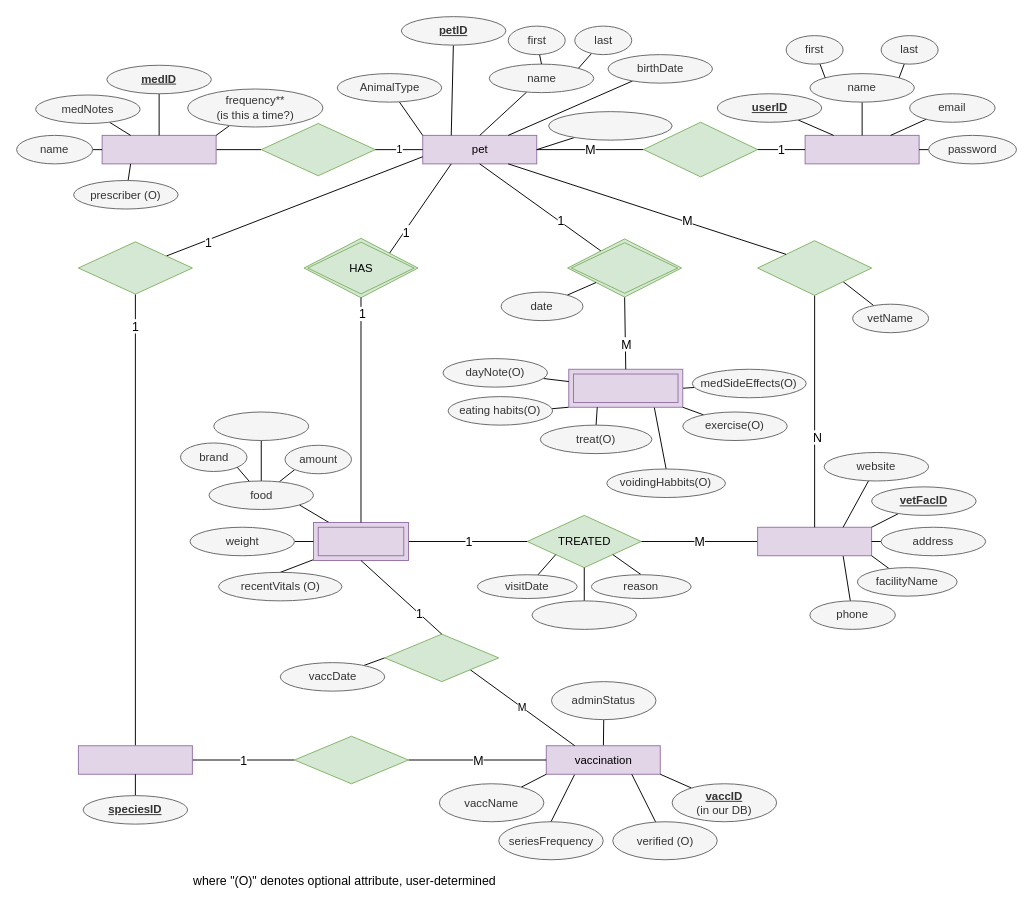
Image size: 1034x907. Some labels were removed from this diagram. The centre of each missing label's shape, as x and y in pixels:
"CARES_FOR" belongs at (x=700, y=149).
"dailyHealth" belongs at (x=625, y=387).
"EXPERIENCES" belongs at (x=624, y=267).
"genHealth" belongs at (x=360, y=541).
"GETS" belongs at (x=351, y=759).
"IS_A" belongs at (x=134, y=267).
"medications" belongs at (x=158, y=149).
"microchipNum (O)" belongs at (x=610, y=125).
"PREFFERED" belongs at (x=814, y=267).
"RECEIVED" belongs at (x=441, y=657).
"species" belongs at (x=134, y=759).
"TAKES" belongs at (x=317, y=149).
"timesPerDay" belongs at (x=261, y=426).
"user*" belongs at (x=861, y=149).
"vetFacility" belongs at (x=814, y=541).
"visitNote" belongs at (x=583, y=614).
